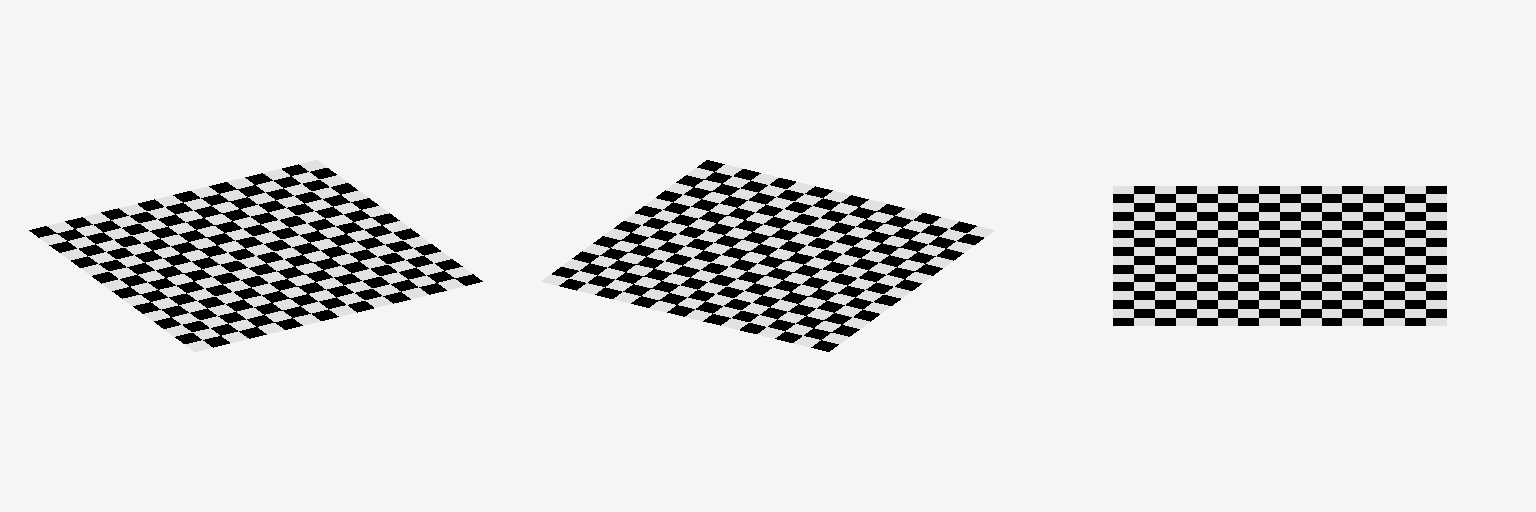
The picture shows the model from 3 angles: view 1: azimuth 30°, elevation 25°; view 2: azimuth 150°, elevation 25°; view 3: azimuth 270°, elevation 25°; orthographic projection.
Visible parts, largest first — view 1: pPlane1; view 2: pPlane1; view 3: pPlane1.
Boxes of the visible parts, box(x1,y1,x2,y2) form: pPlane1: box(29, 160, 482, 351); pPlane1: box(541, 160, 994, 351); pPlane1: box(1113, 186, 1446, 325).
Bounding box in the file's own units: 5 × 0 × 5.
1 materials, 1 textured.